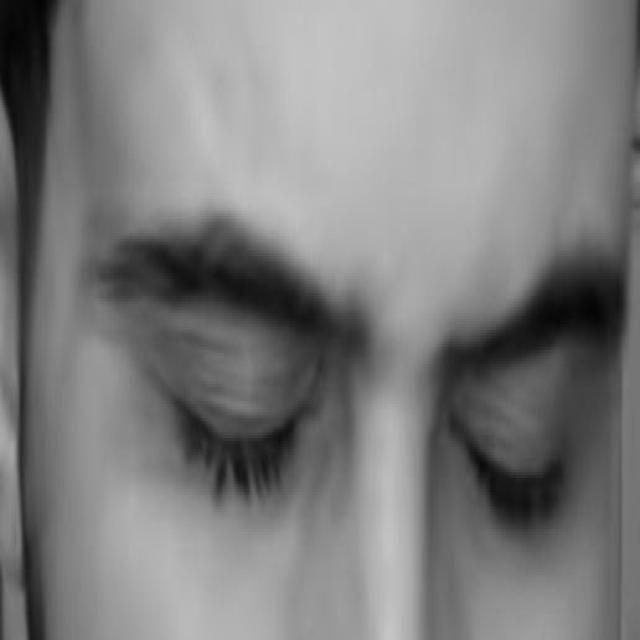real: (116, 215, 604, 589)
